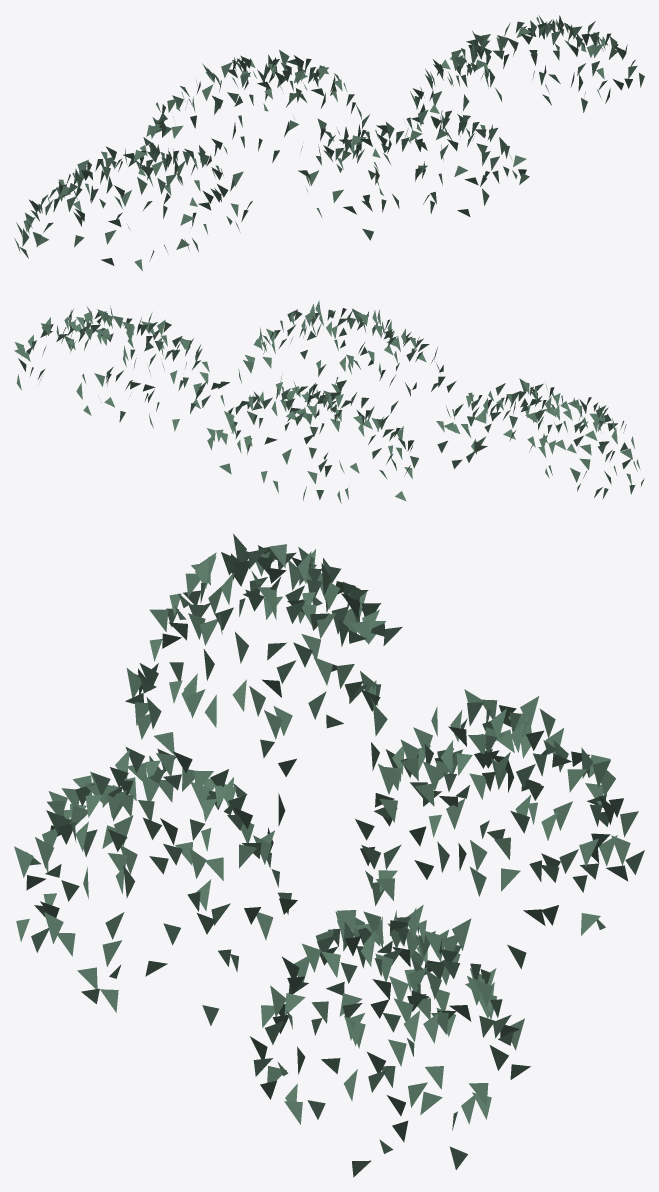
File: teaching3-vegetation-02-medium.glb
3 renders of one model, top to bottom at view 1: azimuth 30°, elevation 25°; view 2: azimuth 150°, elevation 25°; view 3: azimuth 270°, elevation 25°, orthographic. The views are drawn at different scales.
Visible parts, largest first — view 1: shrubs.002; view 2: shrubs.002; view 3: shrubs.002.
Part boxes in pixels (<box>): shrubs.002: <box>14,15,644,270</box>; shrubs.002: <box>14,300,644,503</box>; shrubs.002: <box>14,533,644,1177</box>.
Size of the model in its own units: 11.78 by 1.69 by 5.56.
